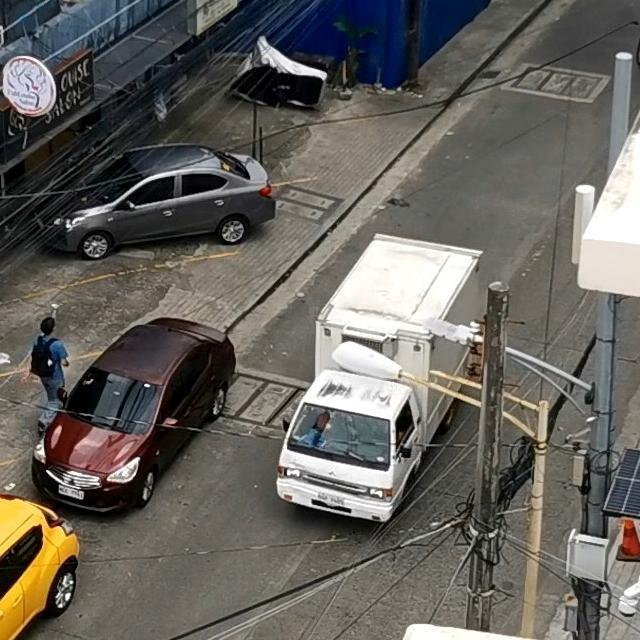Truck: (284, 244, 476, 512)
